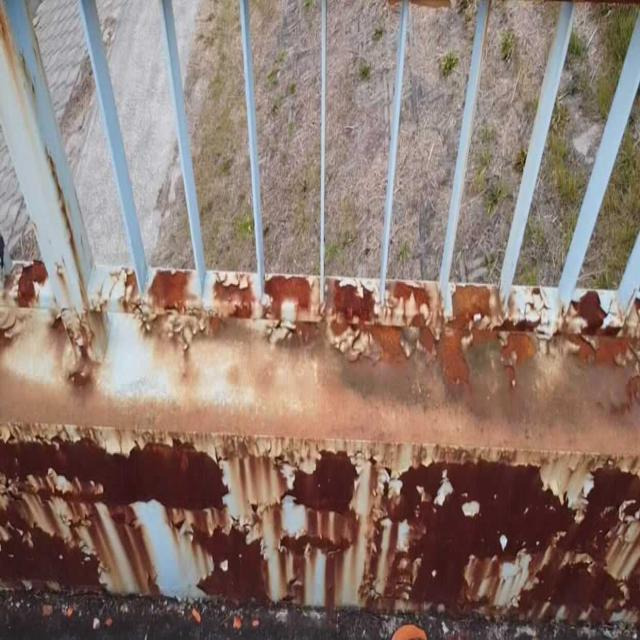corrosion: (25, 227, 640, 615)
